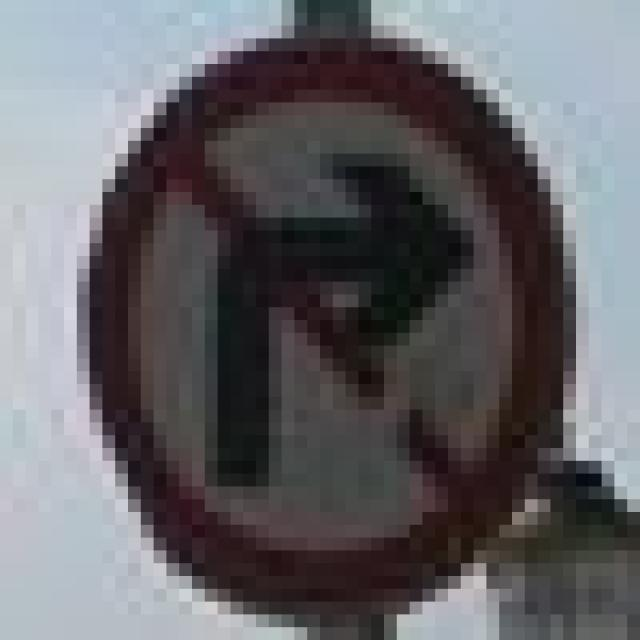right turn prohibited: (89, 32, 574, 616)
